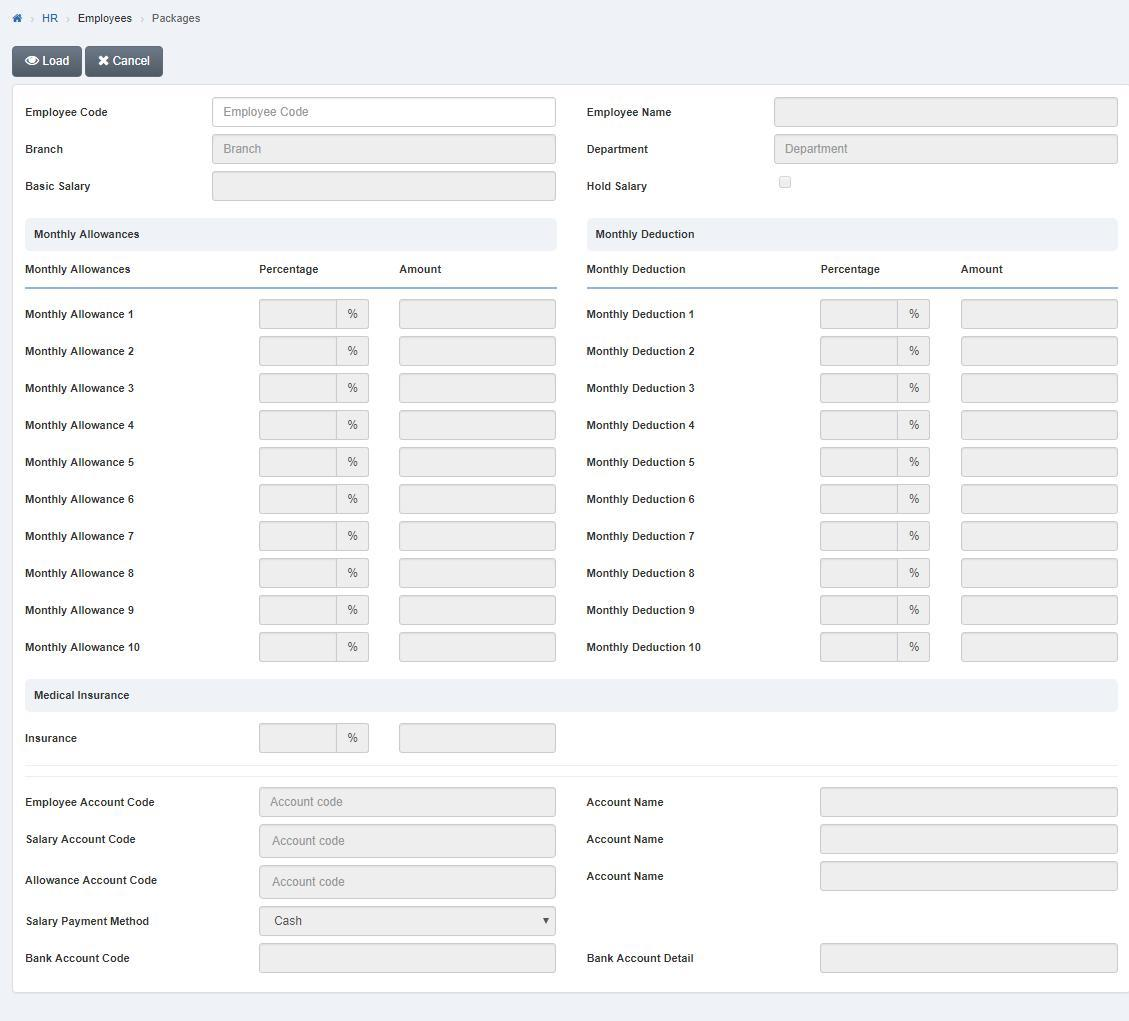button: (87, 46, 164, 77), (14, 46, 84, 78)
checkbox: (779, 175, 792, 186)
dropdown: (261, 906, 555, 939)
input: (213, 169, 556, 204), (260, 867, 556, 903), (776, 96, 1119, 127), (775, 133, 1118, 164), (216, 135, 555, 166), (259, 825, 556, 860), (211, 99, 555, 128), (261, 788, 556, 819), (819, 862, 1117, 892), (261, 944, 555, 974), (821, 826, 1117, 855), (821, 789, 1119, 817), (821, 945, 1119, 972), (401, 299, 557, 333), (961, 596, 1120, 628), (399, 557, 555, 589), (961, 372, 1120, 403), (400, 596, 556, 627), (960, 522, 1118, 552), (399, 634, 556, 664), (399, 726, 556, 756), (963, 484, 1118, 514), (402, 412, 556, 442), (961, 449, 1120, 478), (960, 559, 1119, 588), (961, 301, 1119, 330), (961, 634, 1119, 663), (401, 448, 556, 477), (960, 337, 1117, 365), (401, 337, 557, 365), (961, 411, 1117, 439), (401, 521, 556, 549), (401, 375, 554, 403), (401, 486, 556, 513), (256, 297, 336, 331), (820, 557, 899, 589), (818, 335, 898, 366), (820, 522, 899, 553), (821, 594, 897, 626), (259, 446, 334, 478), (261, 633, 336, 665), (259, 521, 338, 551), (258, 336, 338, 365), (260, 723, 337, 753), (259, 560, 338, 589), (821, 300, 900, 329), (820, 411, 898, 440), (258, 374, 338, 402), (820, 633, 898, 661), (823, 375, 897, 404), (261, 411, 337, 439), (821, 486, 897, 514), (260, 597, 335, 625), (822, 449, 899, 476), (259, 487, 338, 513)
label: (24, 342, 139, 365), (22, 416, 140, 437), (582, 344, 700, 365), (19, 100, 116, 125), (21, 795, 162, 812), (22, 491, 139, 510), (21, 566, 138, 585), (20, 832, 141, 850), (29, 227, 147, 245), (25, 601, 136, 620), (583, 639, 704, 656), (23, 528, 137, 546), (23, 456, 143, 473), (583, 454, 700, 471), (24, 307, 139, 324), (582, 381, 703, 397), (585, 306, 698, 323), (24, 381, 143, 397), (21, 641, 144, 656), (585, 491, 698, 507), (593, 227, 698, 244), (25, 264, 136, 280), (584, 419, 700, 434), (583, 953, 696, 968), (584, 529, 696, 544), (583, 604, 700, 618), (24, 876, 158, 888), (586, 794, 665, 814), (24, 917, 155, 929), (585, 566, 697, 580), (586, 264, 690, 278), (584, 106, 674, 122), (37, 689, 132, 703), (21, 955, 133, 966), (583, 178, 653, 195), (585, 833, 670, 847), (584, 144, 654, 160), (817, 262, 886, 278), (23, 180, 95, 195), (259, 261, 322, 278), (583, 872, 669, 883), (20, 731, 81, 746), (399, 262, 449, 280), (23, 140, 67, 160), (959, 263, 1008, 279)
